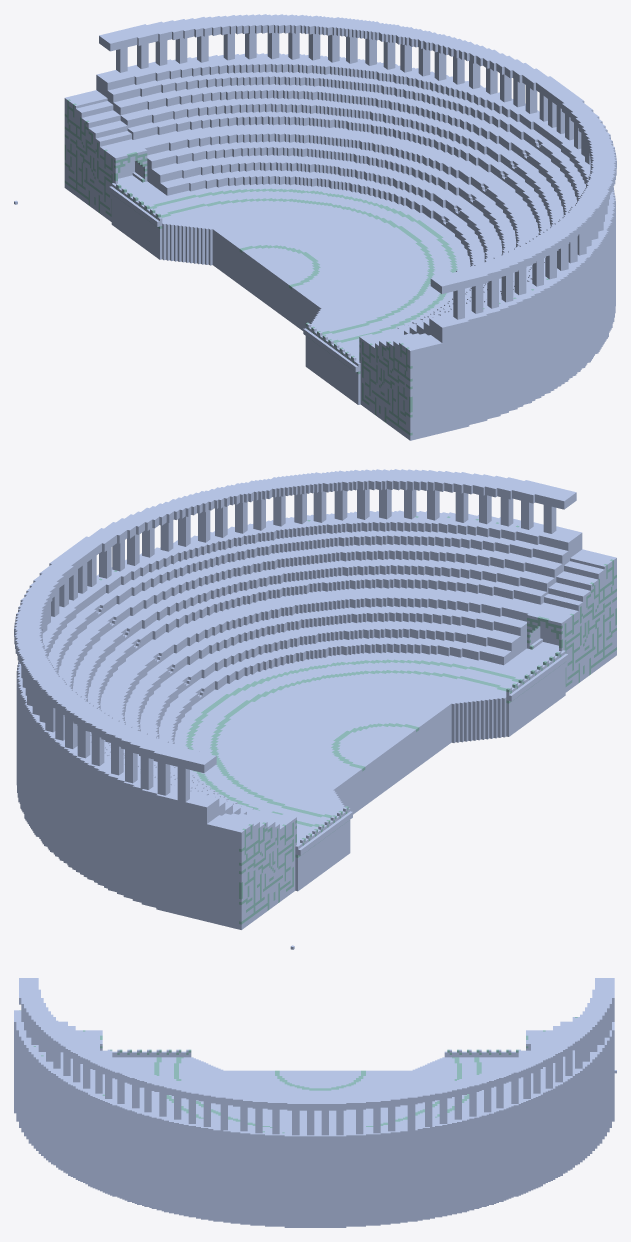
The model's file is rome.glb.
3 renders of one model, top to bottom at view 1: azimuth 30°, elevation 25°; view 2: azimuth 150°, elevation 25°; view 3: azimuth 270°, elevation 25°, orthographic. The views are drawn at different scales.
Visible parts, largest first — view 1: rome-3; view 2: rome-3; view 3: rome-3.
Part boxes in pixels (x1,y1,x2,y2): rome-3: (14, 14, 616, 440); rome-3: (14, 469, 616, 949); rome-3: (14, 978, 616, 1227).
Bounding box in the file's own units: 15.5 × 7 × 24.5.
Materials: 2 (1 with a texture image).
